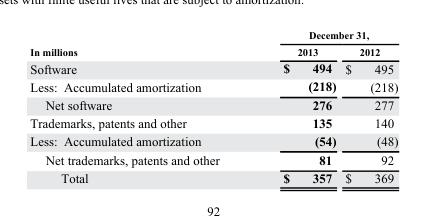table: (29, 28, 397, 185)
table column: (29, 28, 250, 185), (250, 28, 339, 185), (339, 28, 397, 185)
table column header: (29, 28, 397, 58)
table row: (29, 58, 397, 77), (29, 131, 397, 150), (29, 77, 397, 95), (29, 95, 397, 113), (29, 113, 397, 131), (29, 150, 397, 168), (29, 168, 397, 185), (29, 42, 397, 58), (29, 28, 397, 42)
table spanning cell: (29, 28, 250, 58), (250, 28, 397, 42)
